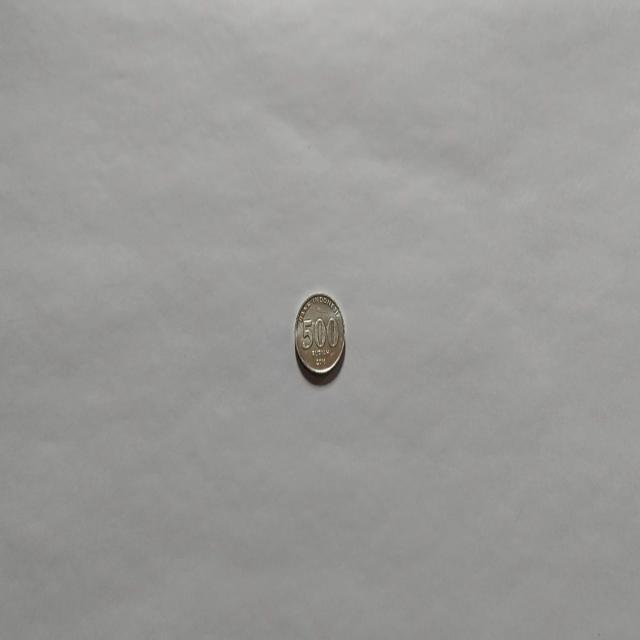lima ratus rupiah: (293, 290, 346, 382)
